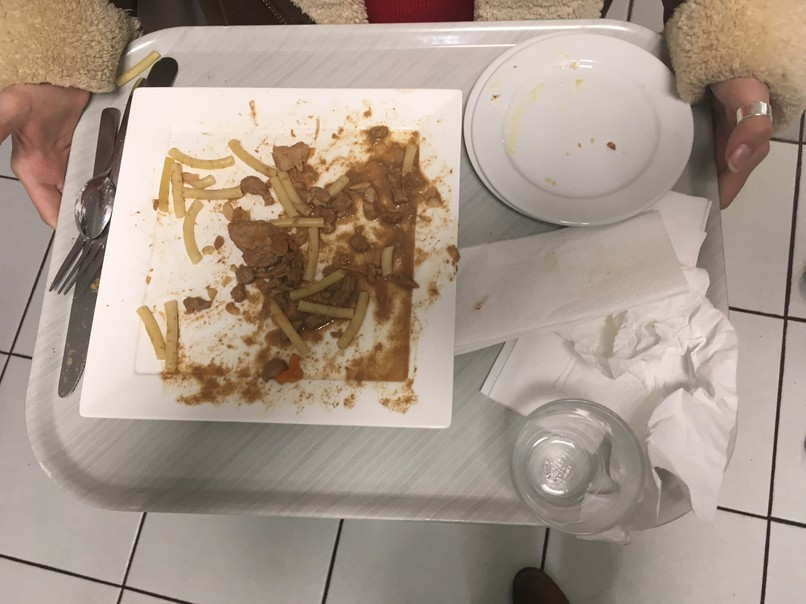orga: (331, 165, 434, 333), (174, 152, 332, 205), (221, 213, 312, 286), (257, 279, 327, 365)
trash: (637, 191, 751, 524), (462, 247, 628, 398)
